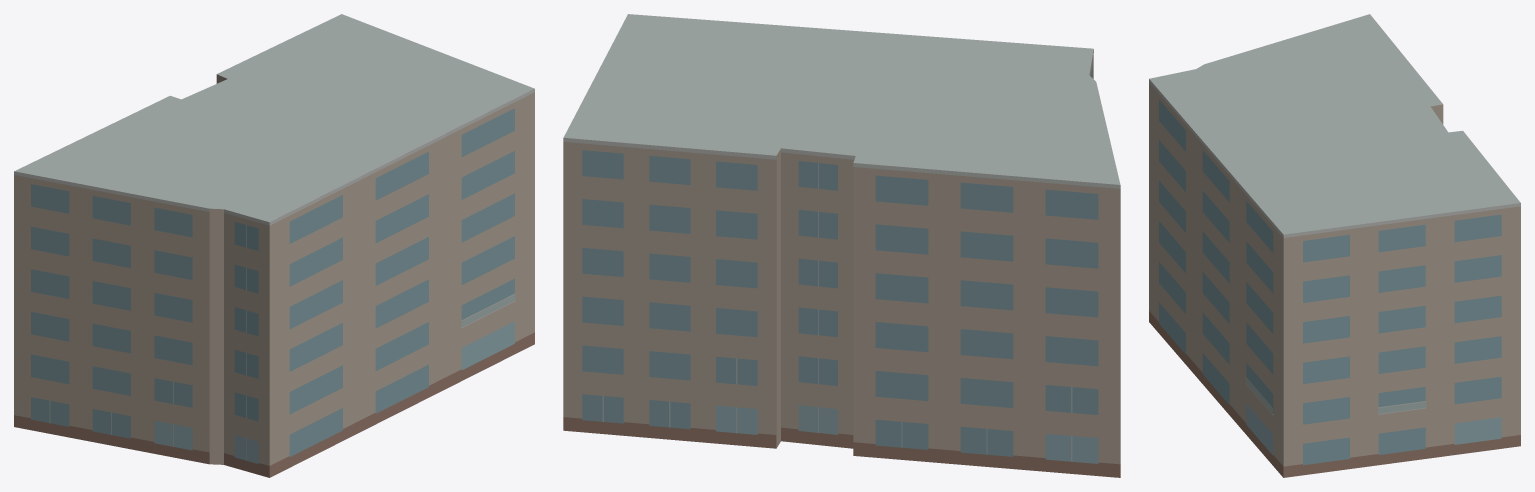
Rendered from survey-upis-32859902.glb.
3 views of the same model, side by side, from view 1: azimuth 30°, elevation 25°; view 2: azimuth 150°, elevation 25°; view 3: azimuth 270°, elevation 25° (orthographic). The views are drawn at different scales.
Visible parts, largest first — view 1: survey-upis-32859902.tmp; view 2: survey-upis-32859902.tmp; view 3: survey-upis-32859902.tmp.
Part boxes in pixels (x1,y1,x2,y2): survey-upis-32859902.tmp: (14, 14, 534, 477); survey-upis-32859902.tmp: (563, 14, 1120, 477); survey-upis-32859902.tmp: (1149, 14, 1520, 477).
Size of the model in its own units: 34.78 by 17.87 by 24.76.
